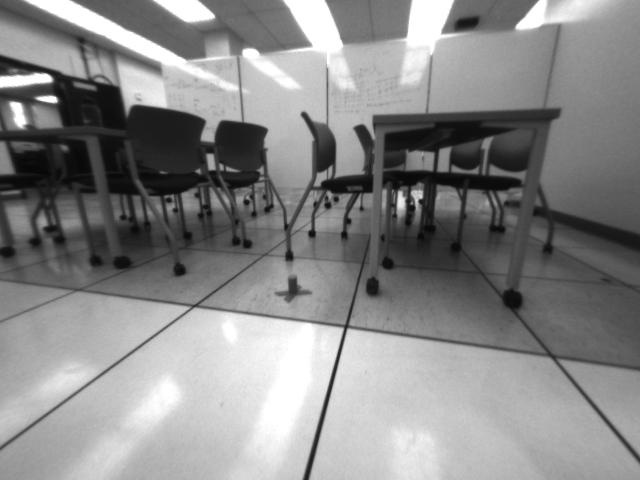x: (275, 273, 312, 304)
